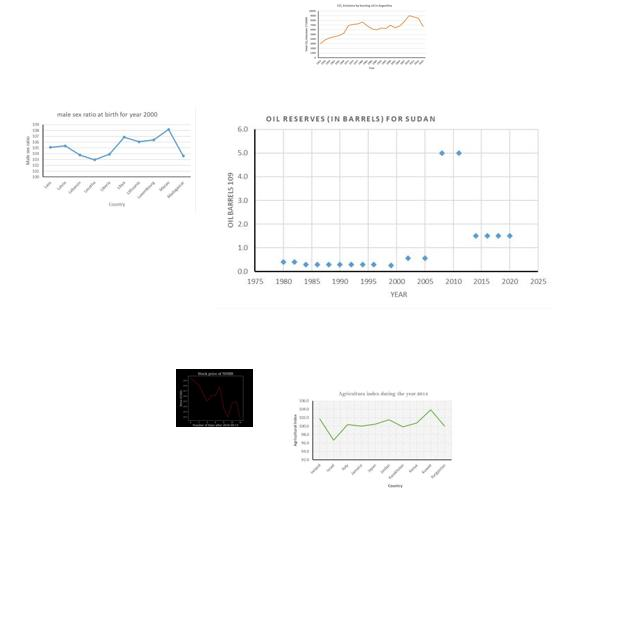Graph: (216, 103, 555, 309), (19, 107, 196, 213), (289, 389, 455, 488), (303, 3, 427, 71), (176, 369, 253, 427)
